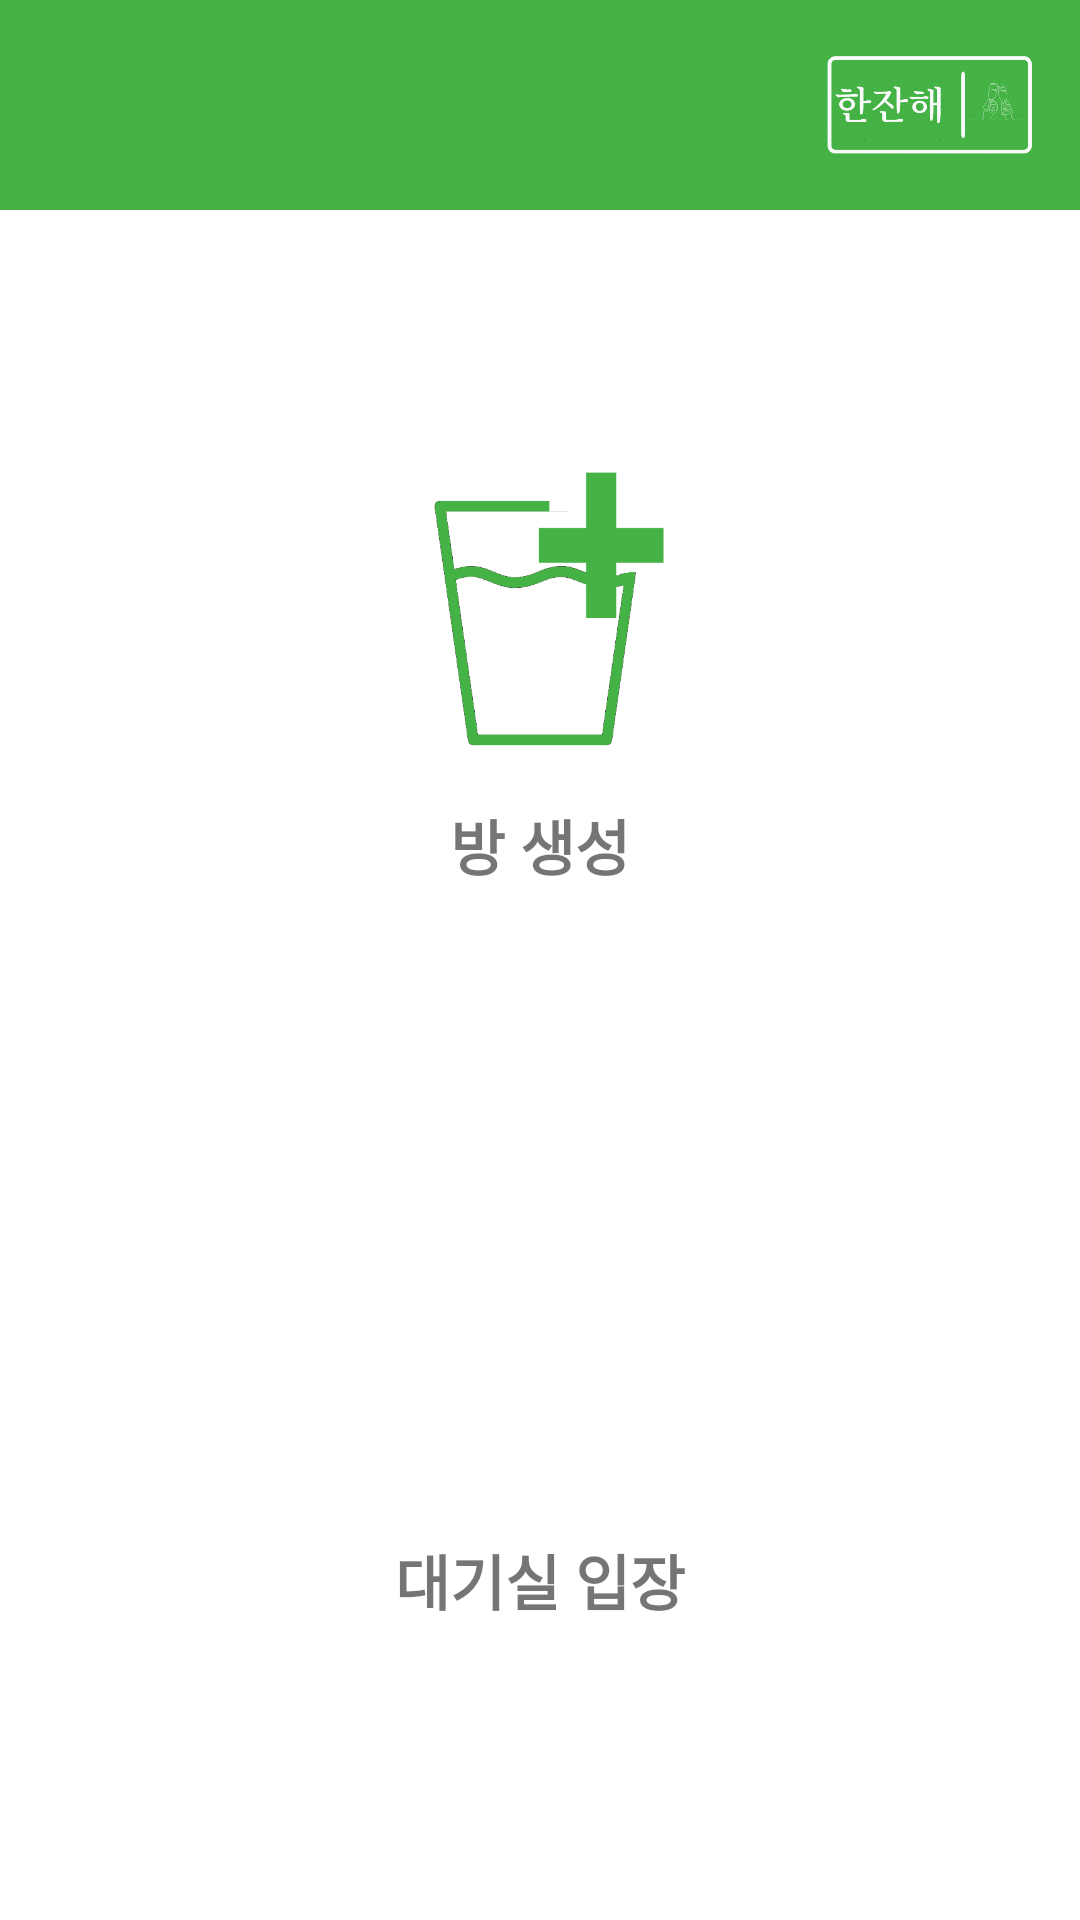

Screen size 1080x1920. Icon name, then its box in pixels as BBox(x1, y1, x2, y2):
glassplus: BBox(434, 472, 664, 746)
